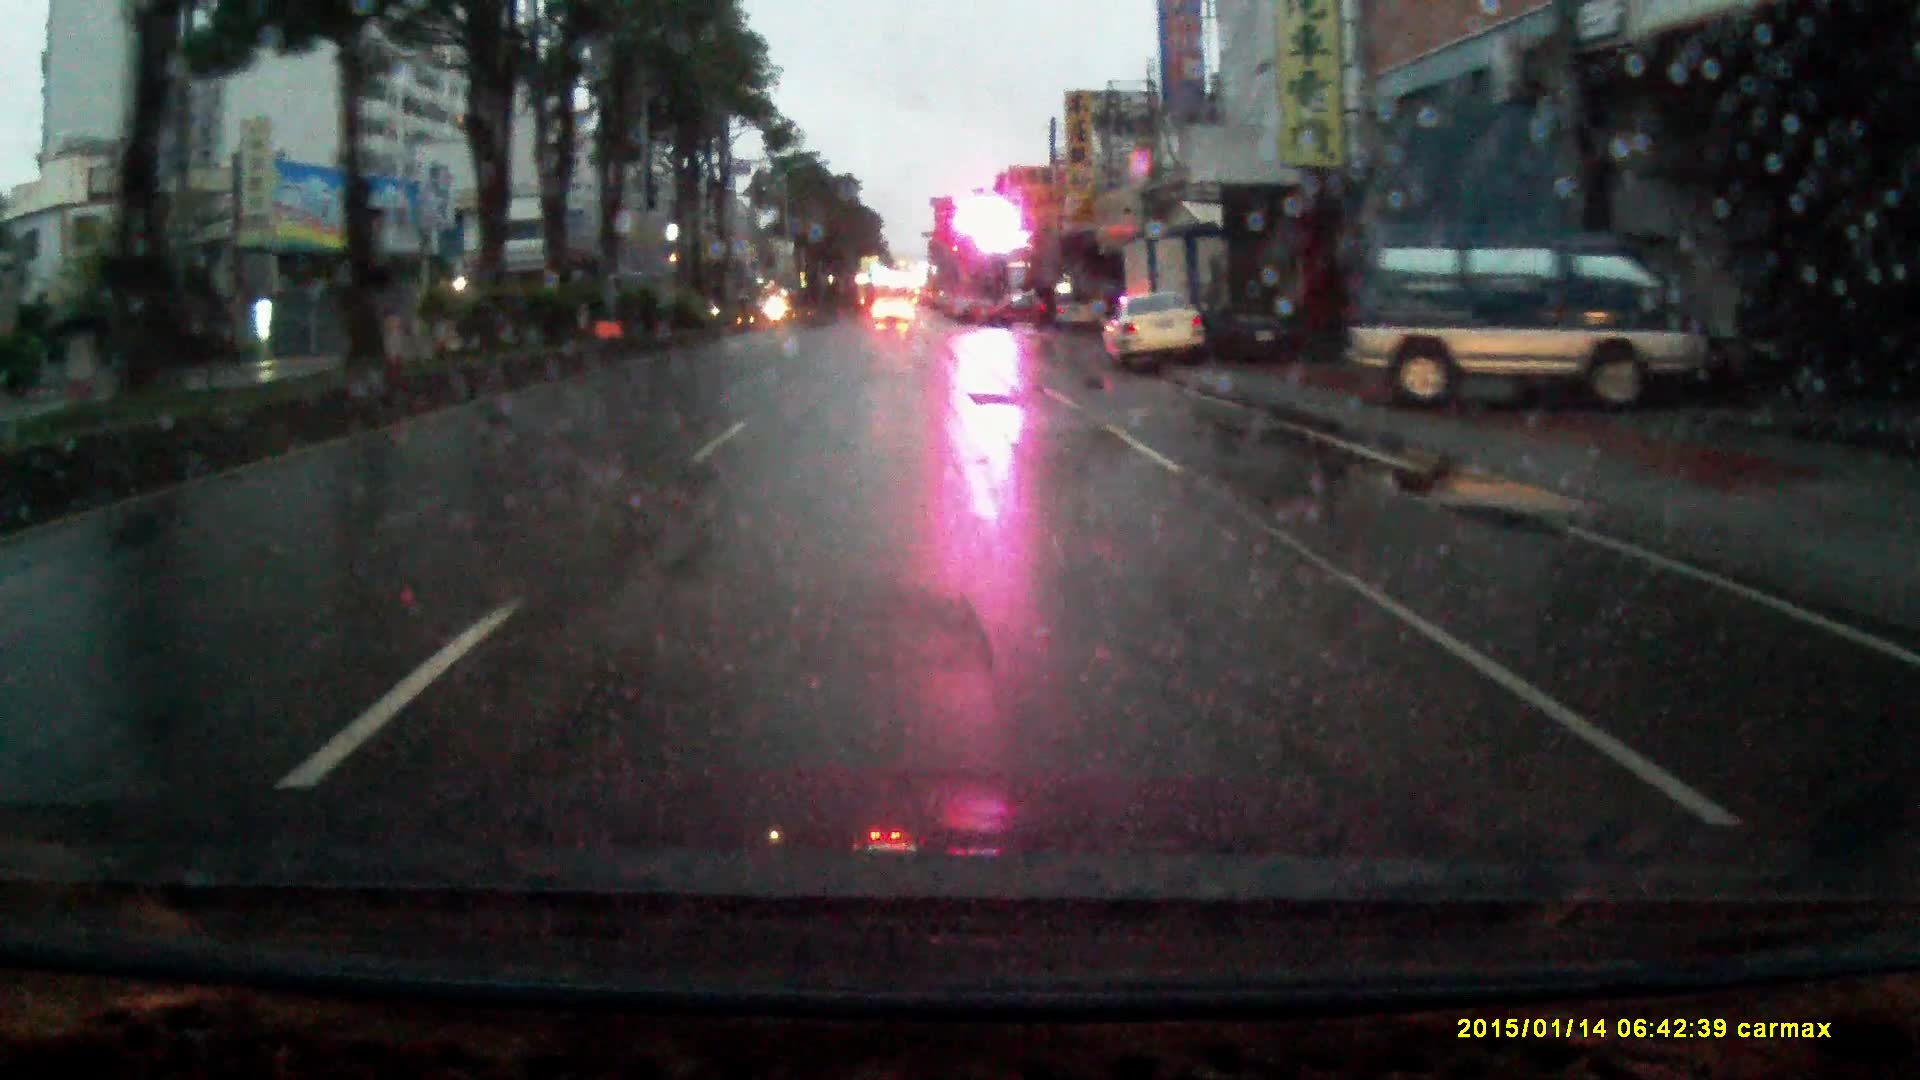vehicle: (1348, 222, 1714, 418), (1114, 229, 1245, 371), (1102, 291, 1215, 371), (975, 291, 1046, 331), (1042, 294, 1097, 335), (876, 295, 910, 328)
